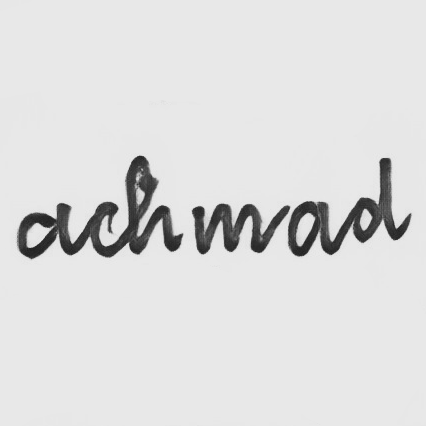a: (13, 199, 72, 263), (284, 199, 333, 258)
c: (84, 198, 120, 260)
d: (347, 155, 398, 244)
h: (123, 153, 183, 258)
m: (189, 201, 265, 254)
